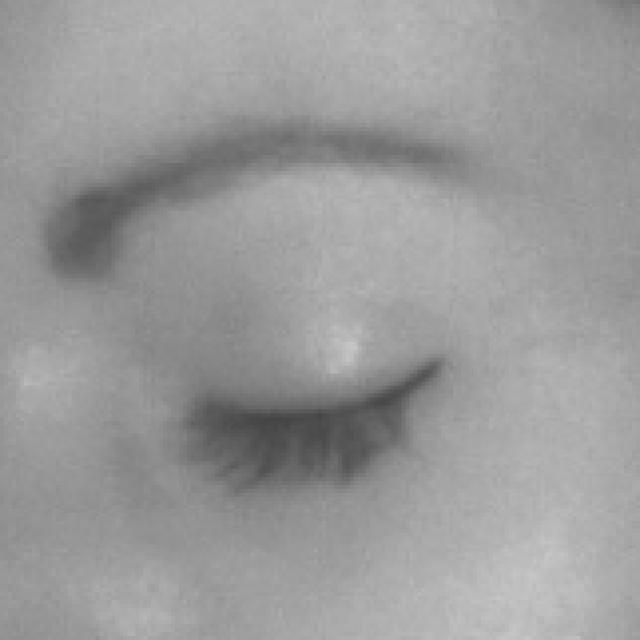close: (18, 84, 580, 576)
